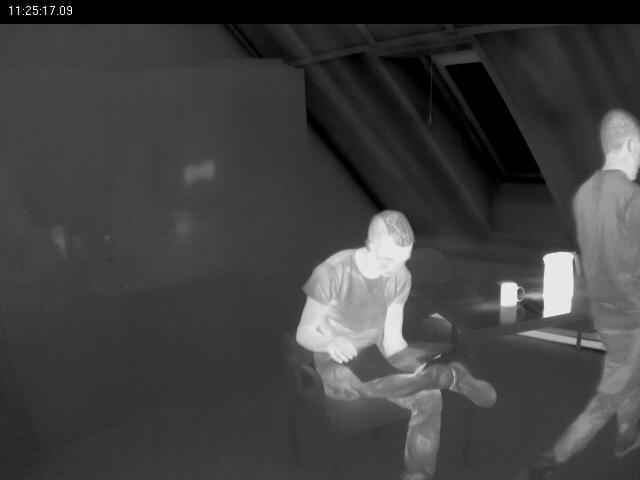person: (292, 200, 503, 480)
